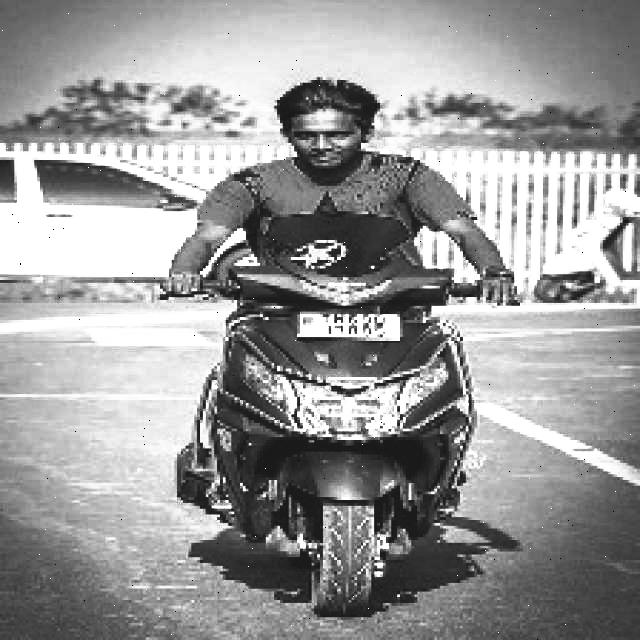Bike: (204, 229, 491, 607)
